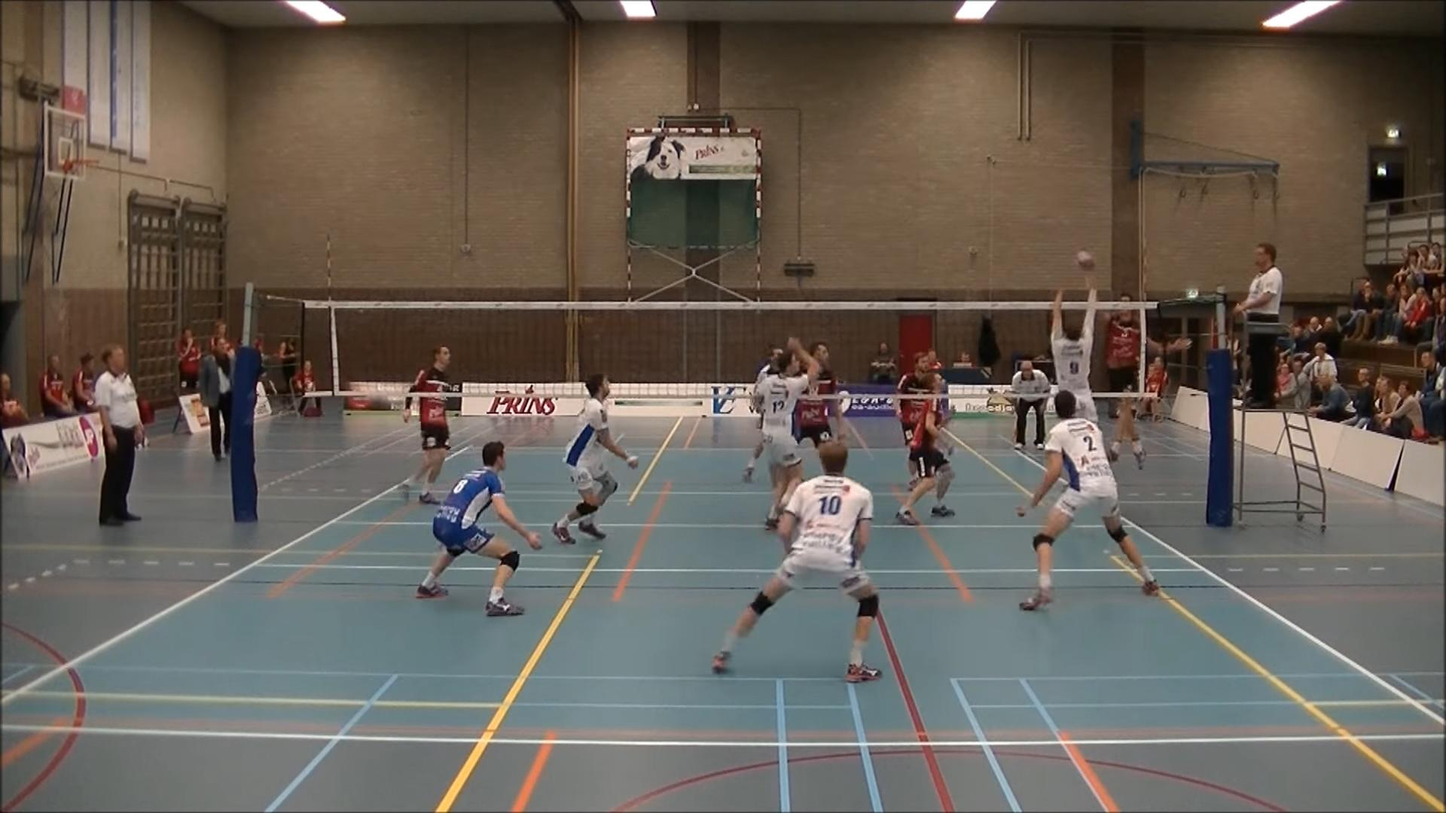attacco: (1091, 277, 1156, 469)
muro: (1050, 281, 1104, 421)
